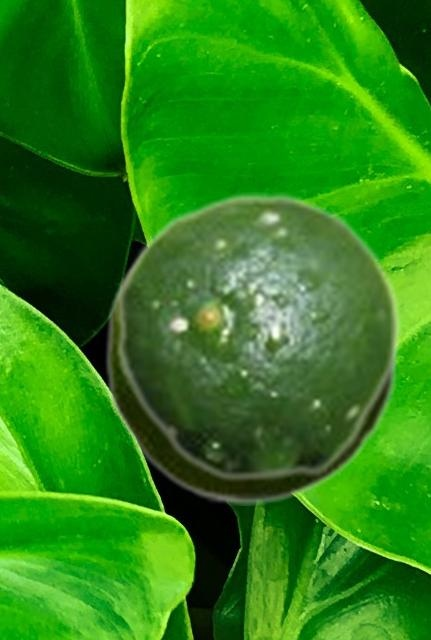calamansi: (115, 192, 401, 482), (103, 245, 398, 504)
